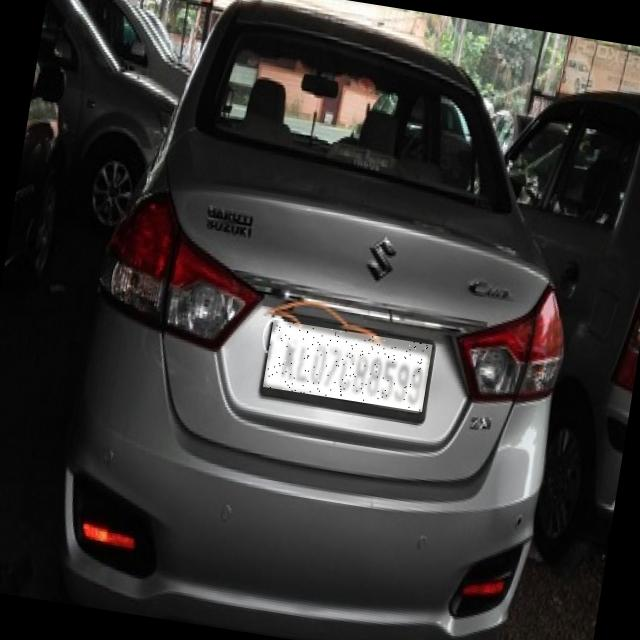Plate: (264, 321, 434, 413)
